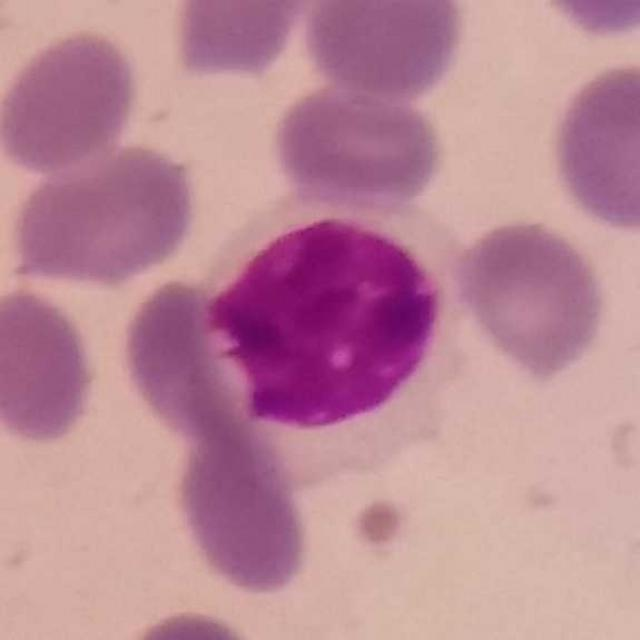Lymphocyte: (213, 206, 453, 500)
Platelets: (348, 493, 408, 554)
RBC: (6, 137, 202, 290), (446, 214, 614, 380), (166, 417, 315, 600), (266, 77, 450, 217), (0, 24, 145, 177), (299, 0, 472, 105), (542, 57, 640, 237), (0, 282, 104, 449), (164, 0, 325, 85), (106, 604, 284, 640), (530, 0, 640, 43)
